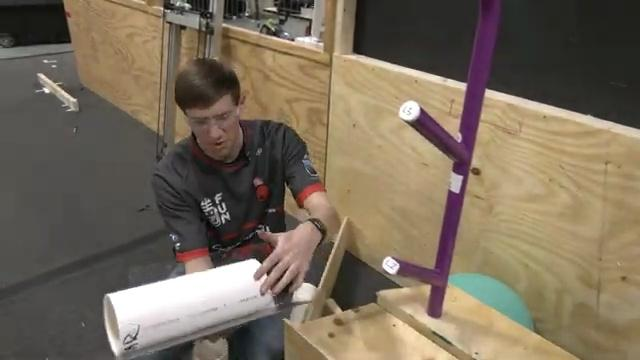CORAL: (102, 257, 279, 351)
